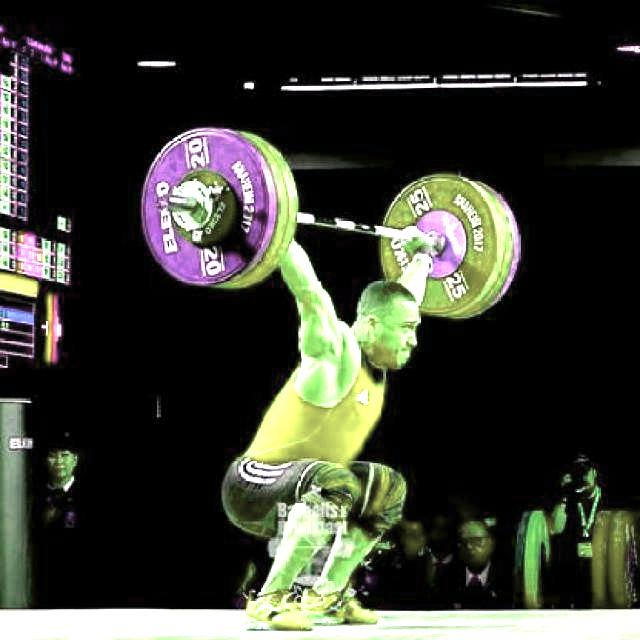barbell: (121, 108, 307, 300)
